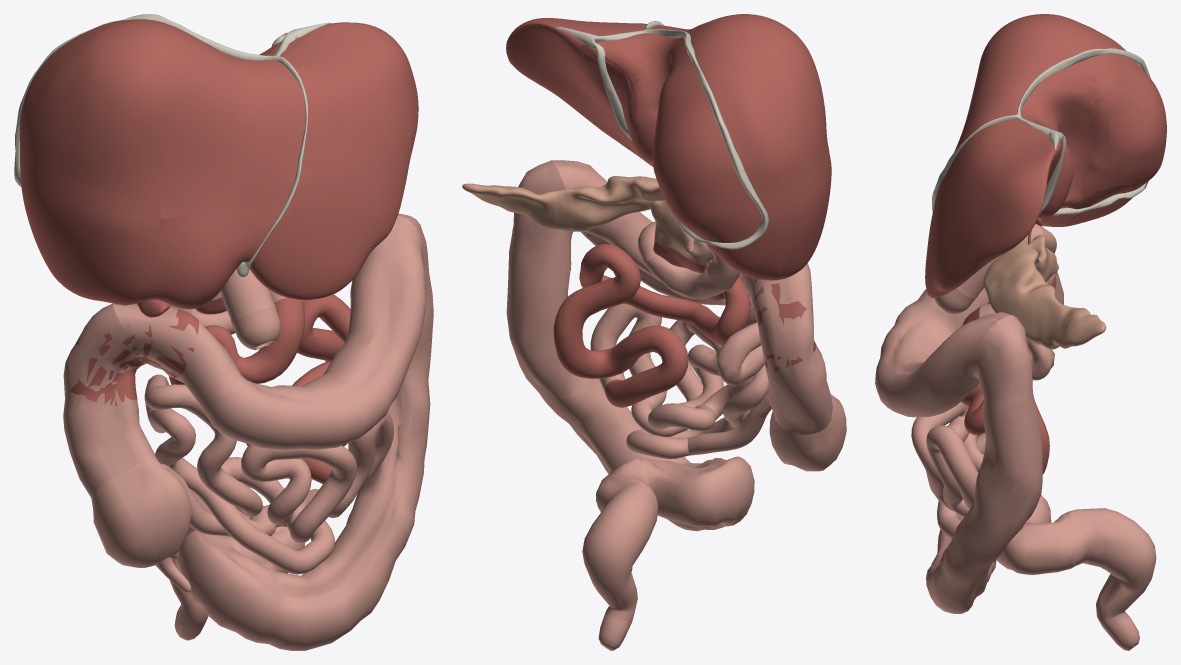
The model's file is adult_female.digestive.LOD0.glb.
The picture shows the model from 3 angles, left to right: view 1: azimuth 30°, elevation 25°; view 2: azimuth 150°, elevation 25°; view 3: azimuth 270°, elevation 25°; orthographic projection. The views are drawn at different scales.
Parts seen in each view (by area): view 1: ADULT.FEMALE.DIGESTIVE.CAPSULE_OF_THE_LIVER, ADULT.FEMALE.DIGESTIVE.TRANSVERSE_COLON, ADULT.FEMALE.DIGESTIVE.ILEUM, ADULT.FEMALE.DIGESTIVE.DESCENDING_COLON, ADULT.FEMALE.DIGESTIVE.LEFT_SUPEROMEDIAL_SEGMENT1, ADULT.FEMALE.DIGESTIVE.ASCENDING_COLON, ADULT.FEMALE.DIGESTIVE.SIGMOID_COLON, ADULT.FEMALE.DIGESTIVE.CAECUM, ADULT.FEMALE.DIGESTIVE.JEJENUM, ADULT.FEMALE.DIGESTIVE.LEFT_INFEROMEDIAL_SEGMENT, ADULT.FEMALE.DIGESTIVE.HEPATIC_FLEXURE_OF_COLON, ADULT.FEMALE.DIGESTIVE.DUODENUM_SUPERIOR (+6 smaller); view 2: ADULT.FEMALE.DIGESTIVE.CAPSULE_OF_THE_LIVER, ADULT.FEMALE.DIGESTIVE.BARE_AREA_OF_LIVER, ADULT.FEMALE.DIGESTIVE.DESCENDING_COLON, ADULT.FEMALE.DIGESTIVE.JEJENUM, ADULT.FEMALE.DIGESTIVE.ILEUM, ADULT.FEMALE.DIGESTIVE.ASCENDING_COLON, ADULT.FEMALE.DIGESTIVE.RECTUM, ADULT.FEMALE.DIGESTIVE.SIGMOID_COLON, ADULT.FEMALE.DIGESTIVE.DIAPHRAGMATIC_SURFACE_OF_LIVER, ADULT.FEMALE.DIGESTIVE.BODY_OF_PANCREAS, ADULT.FEMALE.DIGESTIVE.TRANSVERSE_COLON, ADULT.FEMALE.DIGESTIVE.CAECUM (+13 smaller); view 3: ADULT.FEMALE.DIGESTIVE.CAPSULE_OF_THE_LIVER, ADULT.FEMALE.DIGESTIVE.DESCENDING_COLON, ADULT.FEMALE.DIGESTIVE.BARE_AREA_OF_LIVER, ADULT.FEMALE.DIGESTIVE.TRANSVERSE_COLON, ADULT.FEMALE.DIGESTIVE.RECTUM, ADULT.FEMALE.DIGESTIVE.ILEUM, ADULT.FEMALE.DIGESTIVE.BODY_OF_PANCREAS, ADULT.FEMALE.DIGESTIVE.SIGMOID_COLON, ADULT.FEMALE.DIGESTIVE.CAUDATE_LOBE, ADULT.FEMALE.DIGESTIVE.TAIL_OF_PANCREAS, ADULT.FEMALE.DIGESTIVE.CORONARY_LIGAMENT_OF_LIVER, ADULT.FEMALE.DIGESTIVE.SPLENIC_FLEXURE_OF_COLON (+8 smaller).
Part boxes in pixels (<box>): ADULT.FEMALE.DIGESTIVE.CAPSULE_OF_THE_LIVER: <box>19,19,418,309</box>; ADULT.FEMALE.DIGESTIVE.TRANSVERSE_COLON: <box>113,215,425,449</box>; ADULT.FEMALE.DIGESTIVE.ILEUM: <box>144,374,393,574</box>; ADULT.FEMALE.DIGESTIVE.DESCENDING_COLON: <box>269,213,433,650</box>; ADULT.FEMALE.DIGESTIVE.LEFT_SUPEROMEDIAL_SEGMENT1: <box>160,43,308,218</box>; ADULT.FEMALE.DIGESTIVE.ASCENDING_COLON: <box>63,303,157,497</box>; ADULT.FEMALE.DIGESTIVE.SIGMOID_COLON: <box>178,506,305,643</box>; ADULT.FEMALE.DIGESTIVE.CAECUM: <box>91,457,192,568</box>; ADULT.FEMALE.DIGESTIVE.JEJENUM: <box>169,294,350,483</box>; ADULT.FEMALE.DIGESTIVE.LEFT_INFEROMEDIAL_SEGMENT: <box>150,203,283,307</box>; ADULT.FEMALE.DIGESTIVE.HEPATIC_FLEXURE_OF_COLON: <box>71,305,199,405</box>; ADULT.FEMALE.DIGESTIVE.DUODENUM_SUPERIOR: <box>220,269,275,322</box>; ADULT.FEMALE.DIGESTIVE.CAPSULE_OF_THE_LIVER: <box>506,14,831,280</box>; ADULT.FEMALE.DIGESTIVE.BARE_AREA_OF_LIVER: <box>588,35,761,242</box>; ADULT.FEMALE.DIGESTIVE.DESCENDING_COLON: <box>506,161,703,531</box>; ADULT.FEMALE.DIGESTIVE.JEJENUM: <box>553,244,750,407</box>; ADULT.FEMALE.DIGESTIVE.ILEUM: <box>590,303,768,459</box>; ADULT.FEMALE.DIGESTIVE.ASCENDING_COLON: <box>752,263,832,434</box>; ADULT.FEMALE.DIGESTIVE.RECTUM: <box>582,479,658,650</box>; ADULT.FEMALE.DIGESTIVE.SIGMOID_COLON: <box>596,456,754,529</box>; ADULT.FEMALE.DIGESTIVE.DIAPHRAGMATIC_SURFACE_OF_LIVER: <box>506,24,779,280</box>; ADULT.FEMALE.DIGESTIVE.BODY_OF_PANCREAS: <box>555,176,656,231</box>; ADULT.FEMALE.DIGESTIVE.TRANSVERSE_COLON: <box>551,160,765,308</box>; ADULT.FEMALE.DIGESTIVE.CAECUM: <box>769,394,846,471</box>; ADULT.FEMALE.DIGESTIVE.CAPSULE_OF_THE_LIVER: <box>925,14,1134,298</box>; ADULT.FEMALE.DIGESTIVE.DESCENDING_COLON: <box>926,315,1042,613</box>; ADULT.FEMALE.DIGESTIVE.BARE_AREA_OF_LIVER: <box>1022,55,1166,205</box>; ADULT.FEMALE.DIGESTIVE.TRANSVERSE_COLON: <box>875,288,1012,417</box>; ADULT.FEMALE.DIGESTIVE.RECTUM: <box>1069,508,1156,650</box>; ADULT.FEMALE.DIGESTIVE.ILEUM: <box>911,340,1054,538</box>; ADULT.FEMALE.DIGESTIVE.BODY_OF_PANCREAS: <box>983,248,1058,345</box>; ADULT.FEMALE.DIGESTIVE.SIGMOID_COLON: <box>937,495,1072,575</box>; ADULT.FEMALE.DIGESTIVE.CAUDATE_LOBE: <box>1022,71,1110,217</box>; ADULT.FEMALE.DIGESTIVE.TAIL_OF_PANCREAS: <box>1042,302,1106,349</box>; ADULT.FEMALE.DIGESTIVE.CORONARY_LIGAMENT_OF_LIVER: <box>1017,48,1150,215</box>; ADULT.FEMALE.DIGESTIVE.SPLENIC_FLEXURE_OF_COLON: <box>928,317,1033,415</box>.
Bounding box in the file's own units: 0.253 × 0.4459 × 0.2007.
